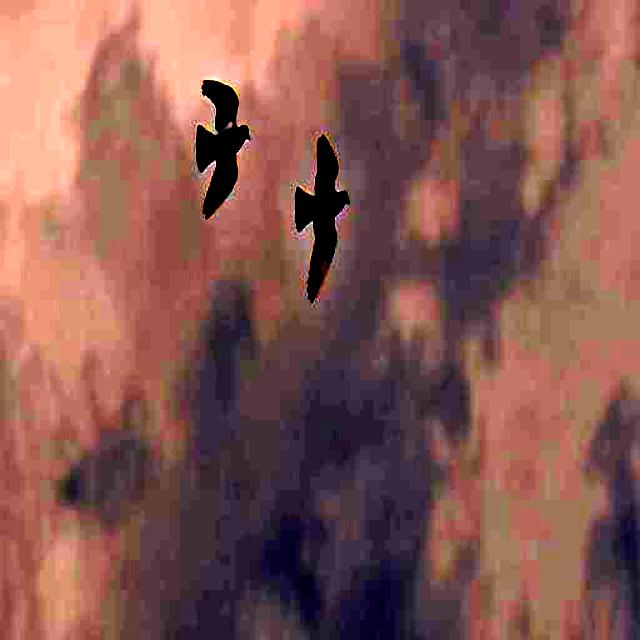airplane: (288, 96, 359, 320), (181, 60, 261, 241)
